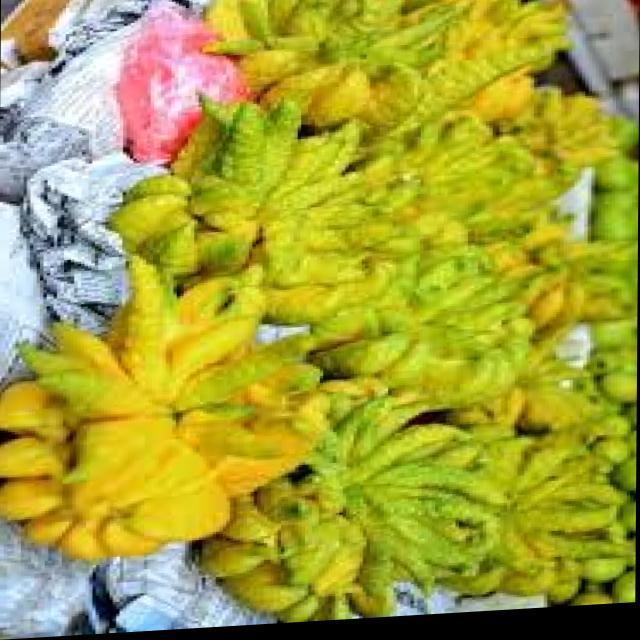PhatThu: (5, 299, 309, 557), (208, 379, 489, 621), (123, 95, 380, 322), (310, 250, 528, 416)
